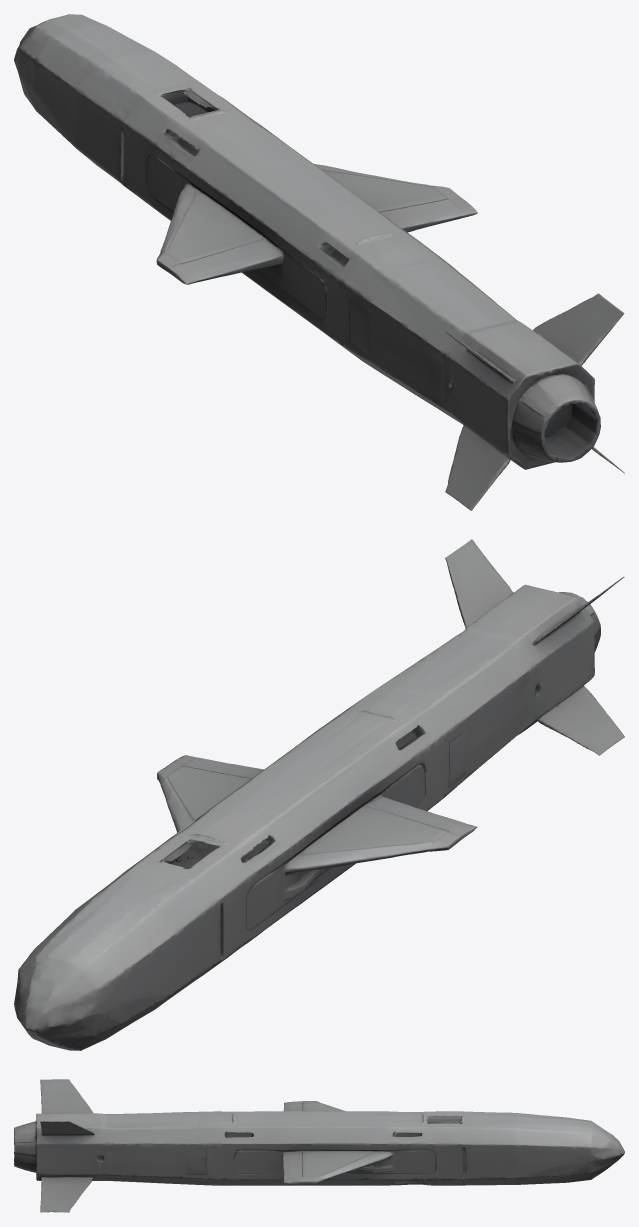
Rendered from missil_cruzeiro.glb.
3 views of the same model, one above another, from view 1: azimuth 30°, elevation 25°; view 2: azimuth 150°, elevation 25°; view 3: azimuth 270°, elevation 25° (orthographic). The views are drawn at different scales.
Parts seen in each view (by area): view 1: tripo_node_6db4718d-1886-4647-9054-a4659eca19ec; view 2: tripo_node_6db4718d-1886-4647-9054-a4659eca19ec; view 3: tripo_node_6db4718d-1886-4647-9054-a4659eca19ec.
Boxes of the visible parts, x1,y1,x2,y2 form: tripo_node_6db4718d-1886-4647-9054-a4659eca19ec: (14,14,624,510); tripo_node_6db4718d-1886-4647-9054-a4659eca19ec: (14,539,624,1050); tripo_node_6db4718d-1886-4647-9054-a4659eca19ec: (14,1079,624,1212).
Bounding box in the file's own units: 0.3117 × 0.165 × 1.
1 material, 1 textured.
